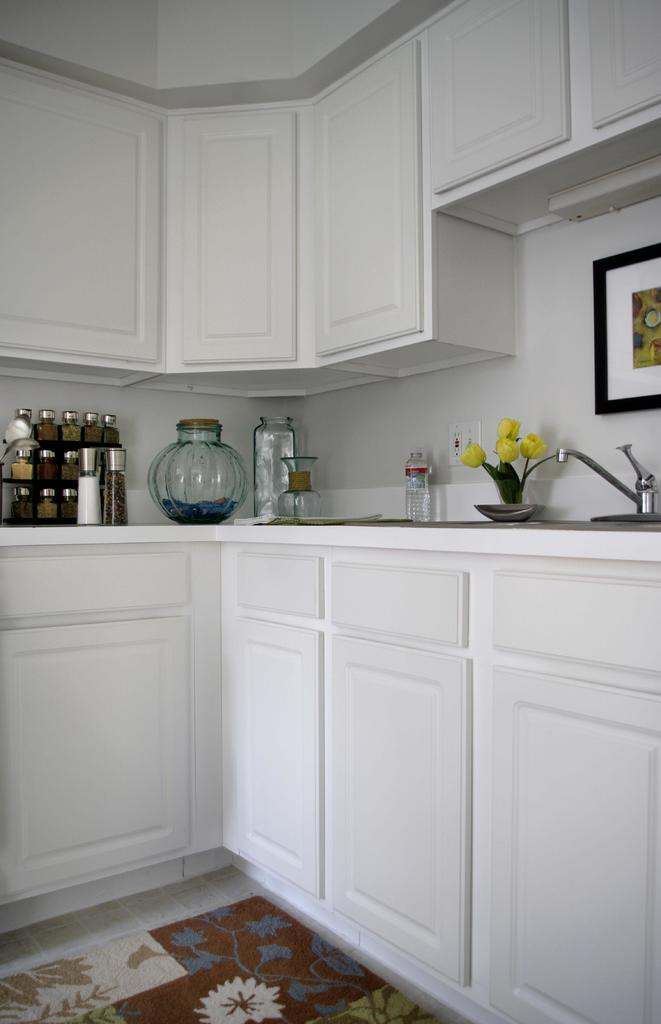cabinet door: (496, 686, 658, 1013), (333, 651, 470, 970), (4, 77, 155, 353), (17, 641, 185, 836), (161, 135, 297, 358), (313, 115, 421, 327), (233, 636, 318, 855), (435, 20, 561, 148), (586, 30, 661, 111)
